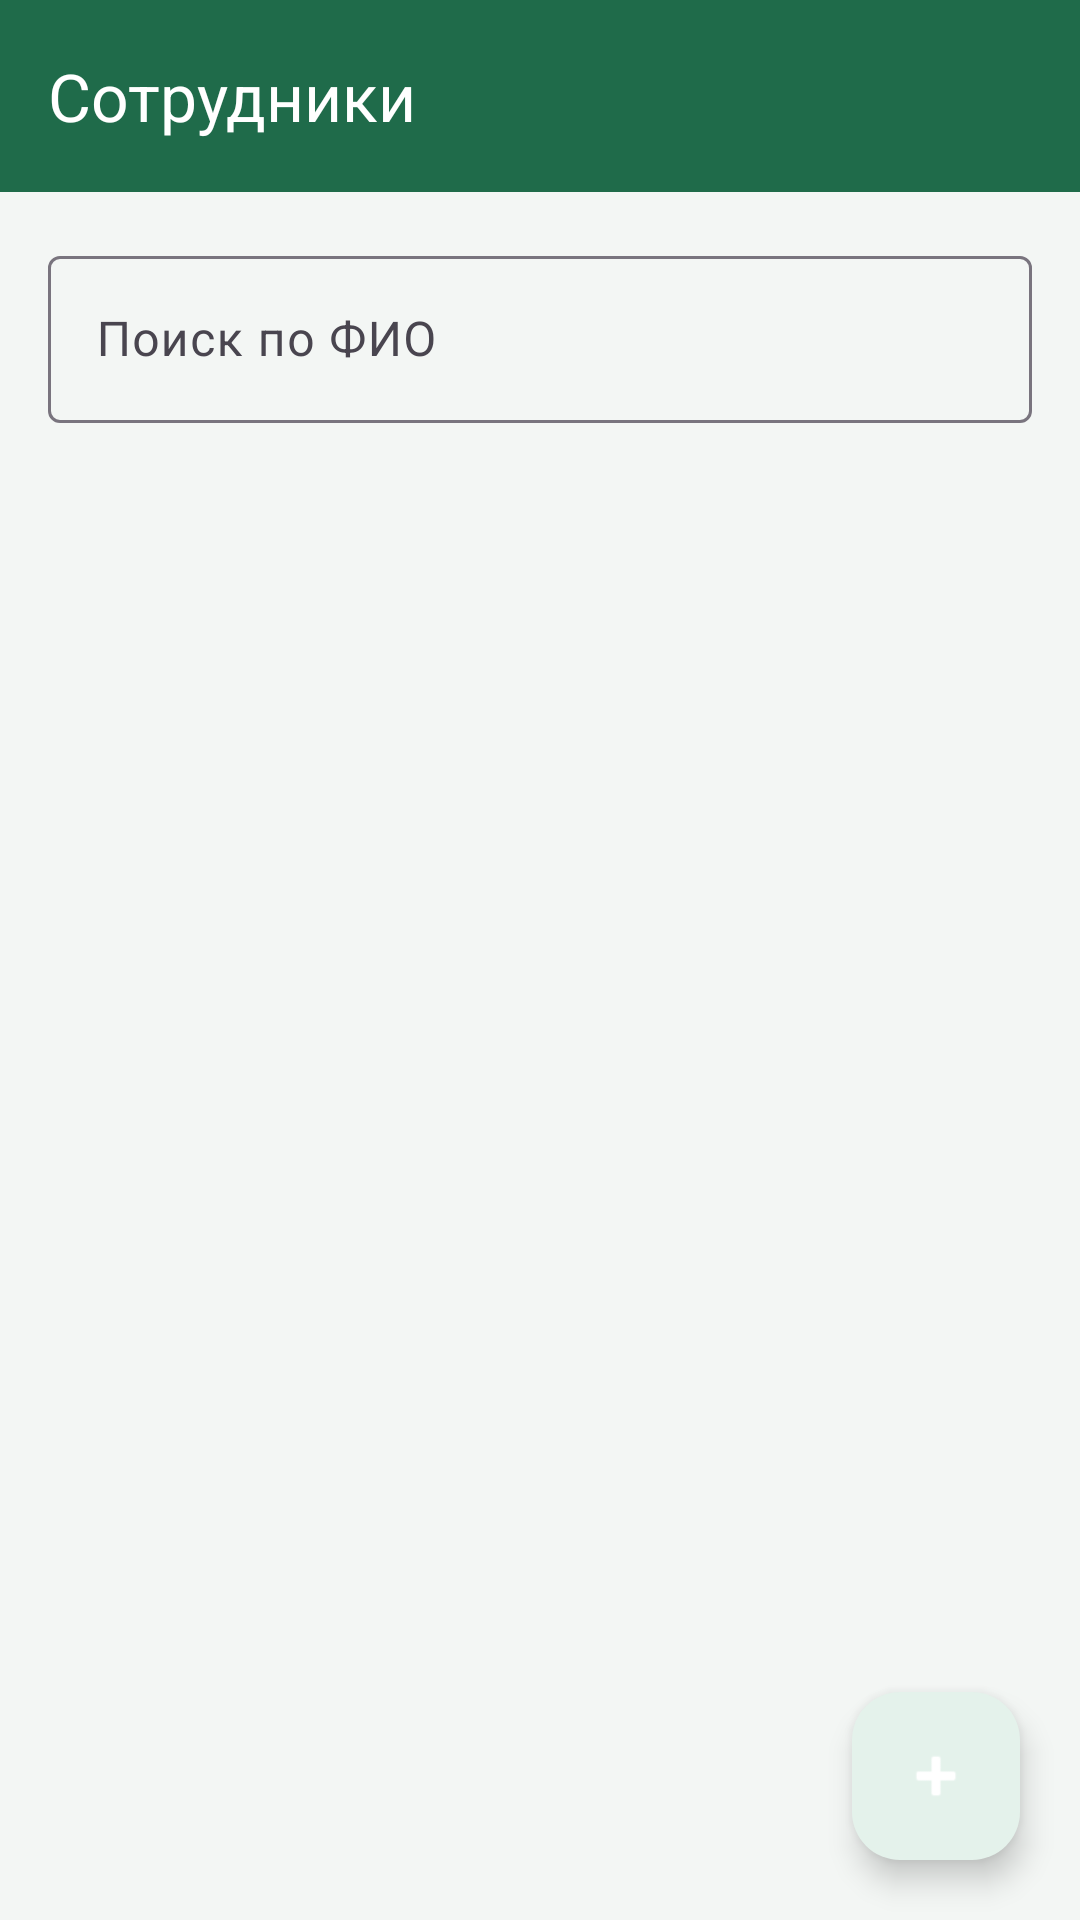

Where icons sit on this 1080px×1920px app screen, as [x1,y1,x2,y2]:
Добавить: [852,1692,1020,1860]
